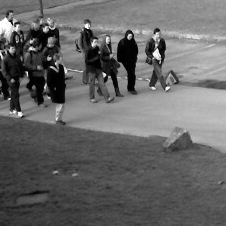person: (86, 36, 114, 103), (3, 44, 26, 117), (145, 27, 171, 91), (117, 29, 139, 95), (49, 52, 68, 125), (27, 40, 47, 109), (78, 18, 97, 83), (102, 34, 121, 97), (44, 36, 62, 78), (1, 8, 19, 45), (11, 21, 24, 64), (48, 17, 62, 51), (26, 20, 43, 40), (40, 25, 52, 42), (35, 13, 48, 27)
